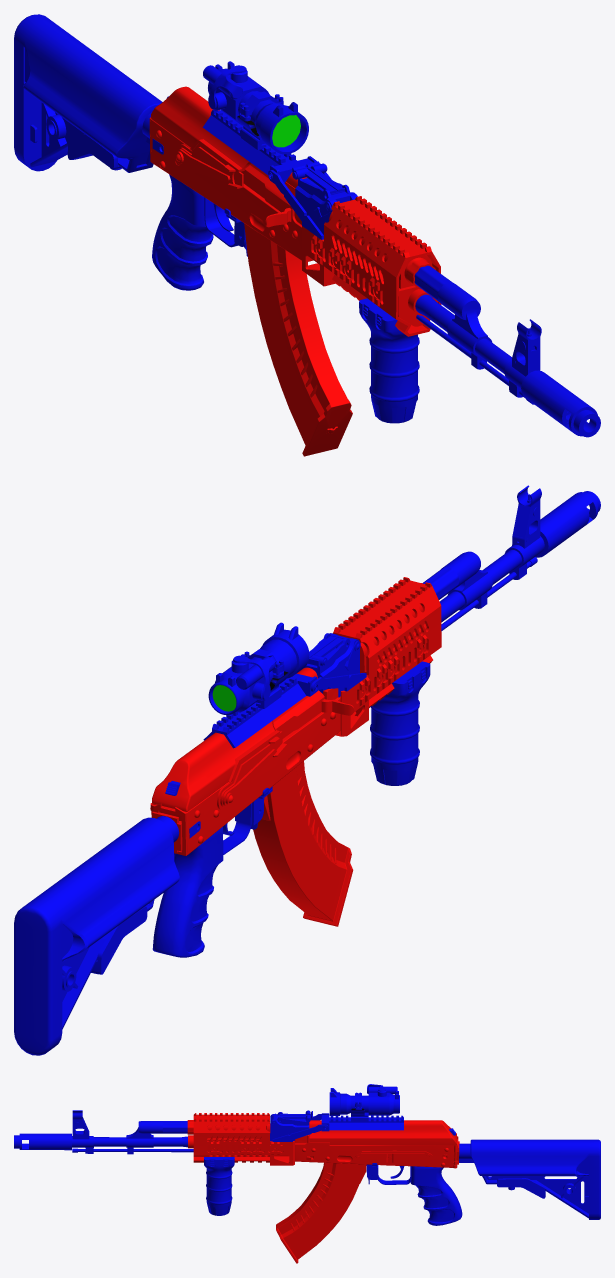
The model's file is Rifle.fbx.
The picture shows the model from 3 angles, top to bottom: view 1: azimuth 30°, elevation 25°; view 2: azimuth 150°, elevation 25°; view 3: azimuth 270°, elevation 25°; orthographic projection. The views are drawn at different scales.
Visible parts, largest first — view 1: Stock_Main1, Magazine1, Cage, Foregrip_Main, Main_Grip, Main_Receiver2, Receiver_Cover, Barrel_Upper, Muzzle, Scope, Scope_Holder, Ironsight_Front (+14 smaller); view 2: Stock_Main1, Magazine1, Cage, Main_Grip, Foregrip_Main, Main_Receiver2, Receiver_Cover, Scope, Barrel_Upper, Muzzle, Scope_Holder, Ironsight_Front (+6 smaller); view 3: Stock_Main1, Magazine1, Cage, Receiver_Cover, Main_Receiver2, Main_Grip, Foregrip_Main, Scope, Barrel_Upper, Scope_Holder, Muzzle, Stock_Separator (+10 smaller).
Part boxes in pixels (x1,y1,x2,y2): Stock_Main1: [14, 14, 162, 172]; Magazine1: [244, 223, 352, 456]; Cage: [302, 199, 441, 336]; Foregrip_Main: [359, 298, 419, 423]; Main_Grip: [152, 174, 213, 290]; Main_Receiver2: [150, 119, 313, 261]; Receiver_Cover: [151, 86, 307, 189]; Barrel_Upper: [414, 265, 492, 369]; Muzzle: [521, 370, 600, 437]; Scope: [208, 68, 308, 154]; Scope_Holder: [202, 110, 316, 182]; Ironsight_Front: [504, 319, 541, 397]; Stock_Main1: [14, 817, 179, 1055]; Magazine1: [253, 761, 353, 926]; Cage: [333, 580, 441, 736]; Main_Grip: [152, 827, 223, 957]; Foregrip_Main: [370, 661, 430, 785]; Main_Receiver2: [159, 688, 340, 854]; Receiver_Cover: [152, 667, 317, 811]; Scope: [208, 629, 309, 715]; Barrel_Upper: [422, 551, 492, 610]; Muzzle: [535, 491, 600, 557]; Scope_Holder: [203, 673, 317, 748]; Ironsight_Front: [504, 485, 544, 579]; Stock_Main1: [470, 1139, 600, 1219]; Magazine1: [276, 1162, 366, 1263]; Cage: [193, 1114, 294, 1165]; Receiver_Cover: [309, 1120, 456, 1145]; Main_Receiver2: [295, 1135, 454, 1167]; Main_Grip: [410, 1166, 462, 1225]; Foregrip_Main: [204, 1157, 234, 1215]; Scope: [329, 1092, 399, 1115]; Barrel_Upper: [126, 1121, 187, 1154]; Scope_Holder: [321, 1113, 403, 1131]; Muzzle: [14, 1133, 71, 1150]; Stock_Separator: [486, 1176, 588, 1213].
Bounding box in the file's own units: 0.0705 × 0.2828 × 0.8834.
